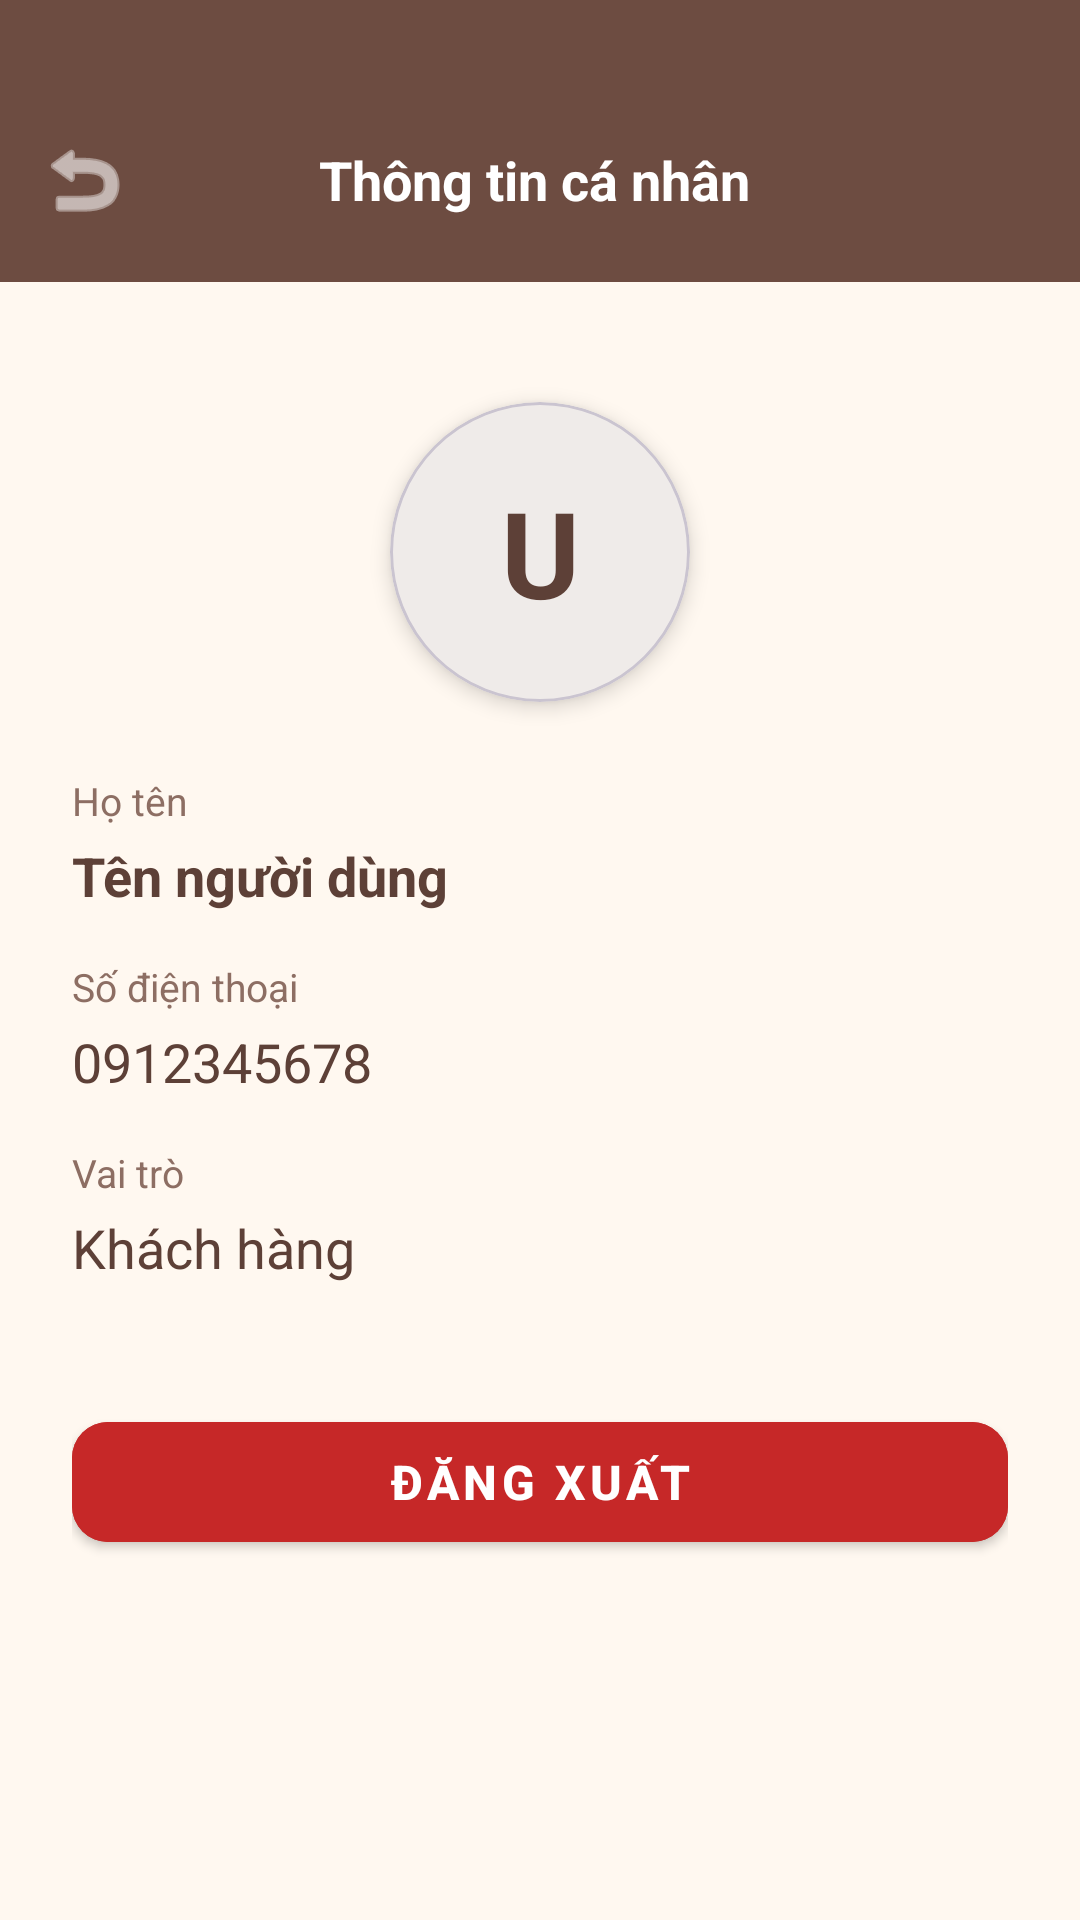

Screen size 1080 x 1920. Icon name, then its center in pixels as point (x, y):
Quay lại: point (85, 180)
